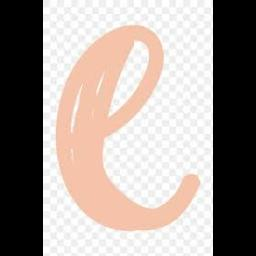e: (54, 25, 204, 221)
